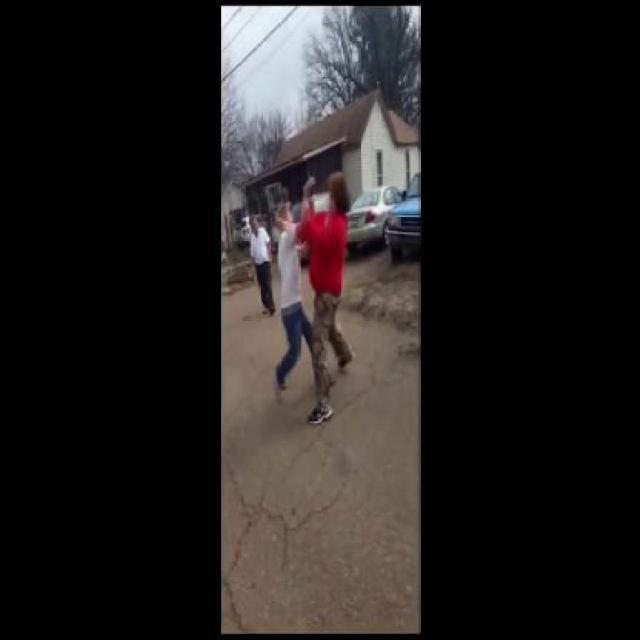fight: (270, 172, 356, 425)
